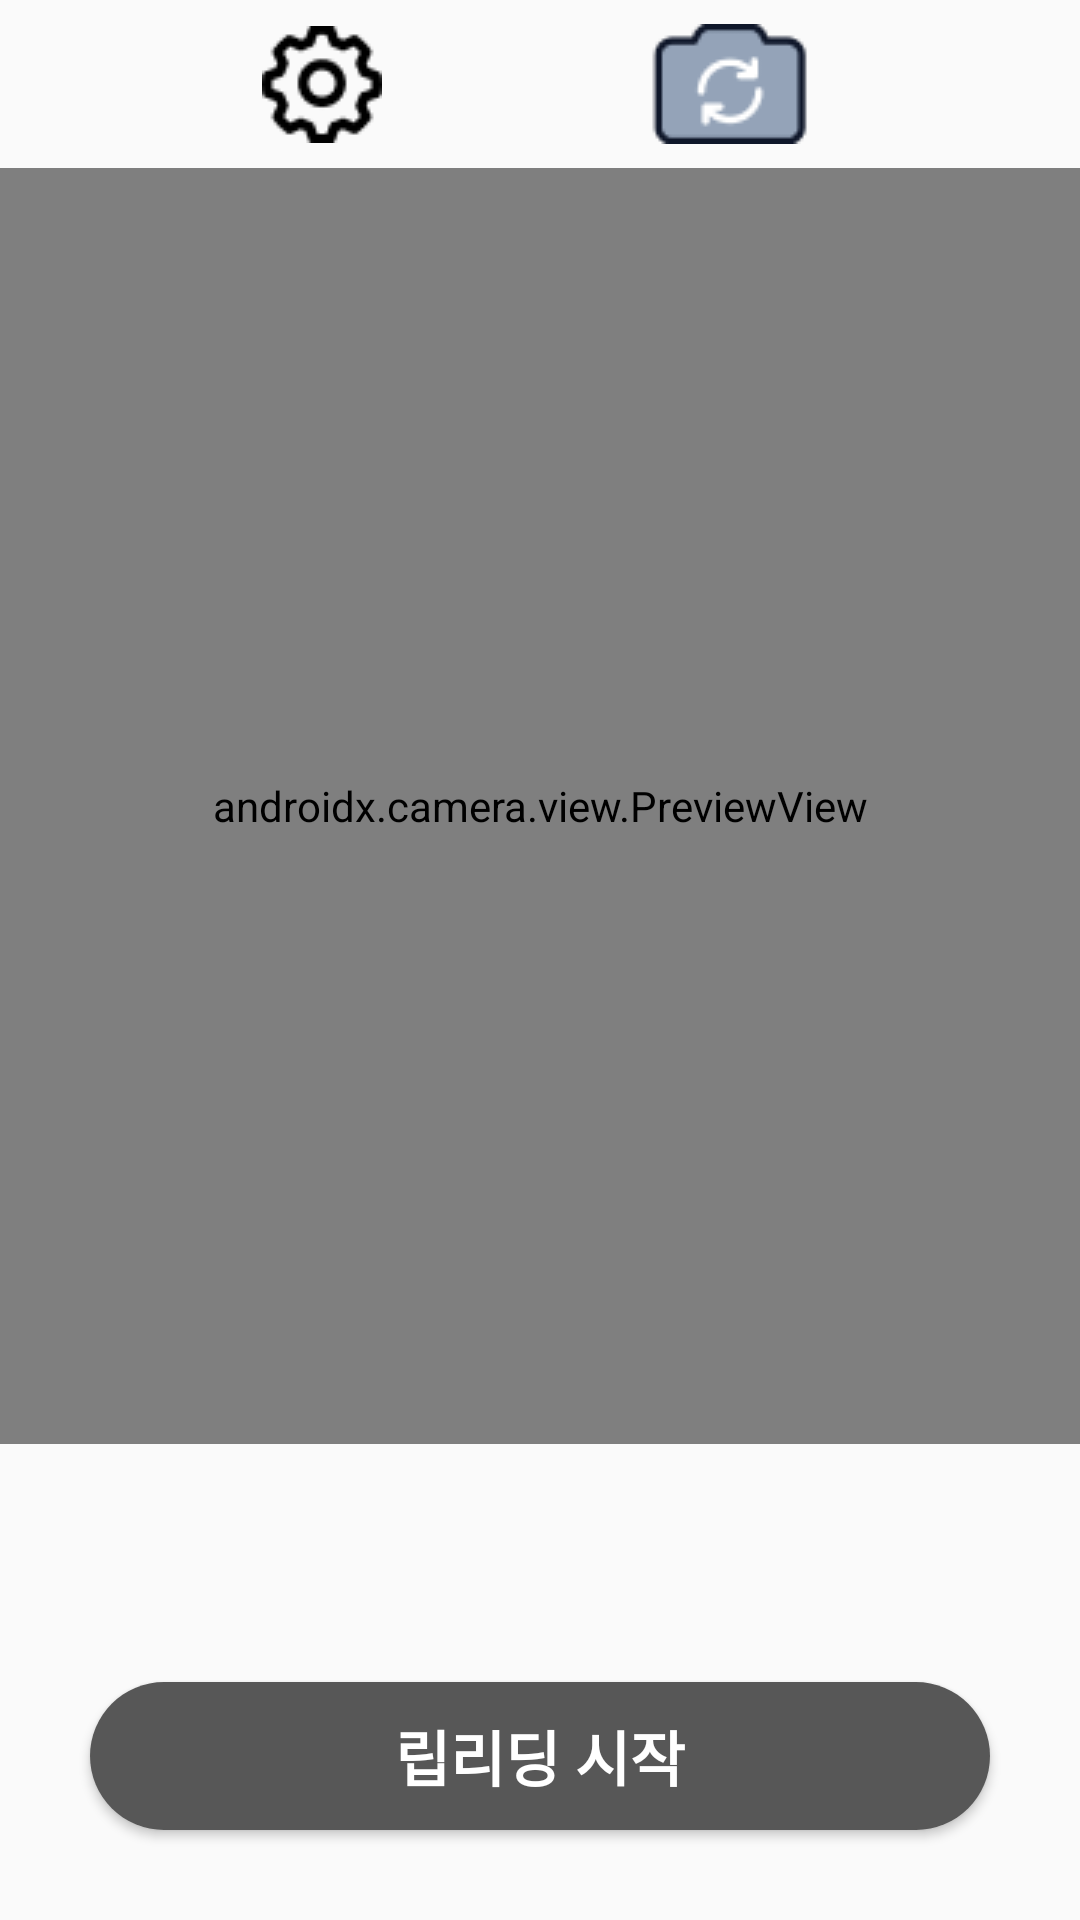

Where to tap for icons on this 1080 × 1920 app screen, as [x,y]:
camerachange: [729,84]
setting: [322,84]
